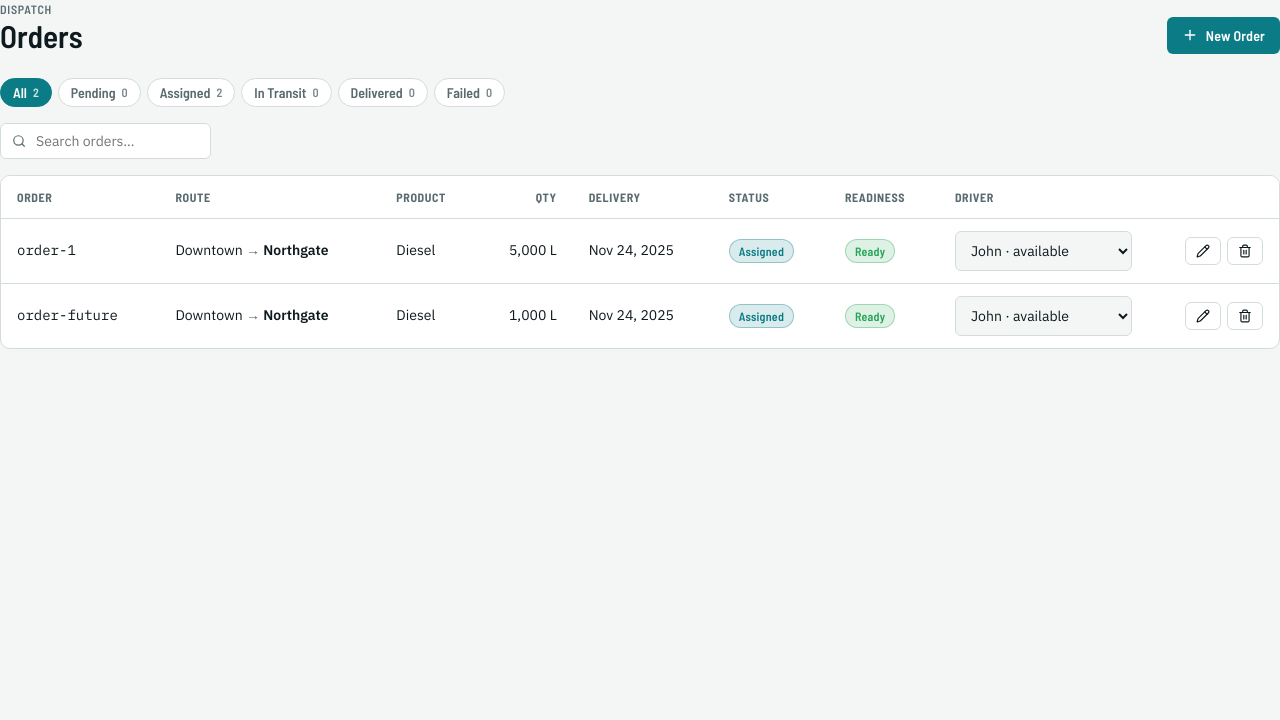
Test: OrdersPage › edits an existing (future-dated) order from the drawer
Expected: the text "order-future" is shown, [17, 306, 118, 324]
Click the button named "Edit order-future": x=1203, y=316 [1185, 302, 1221, 330]
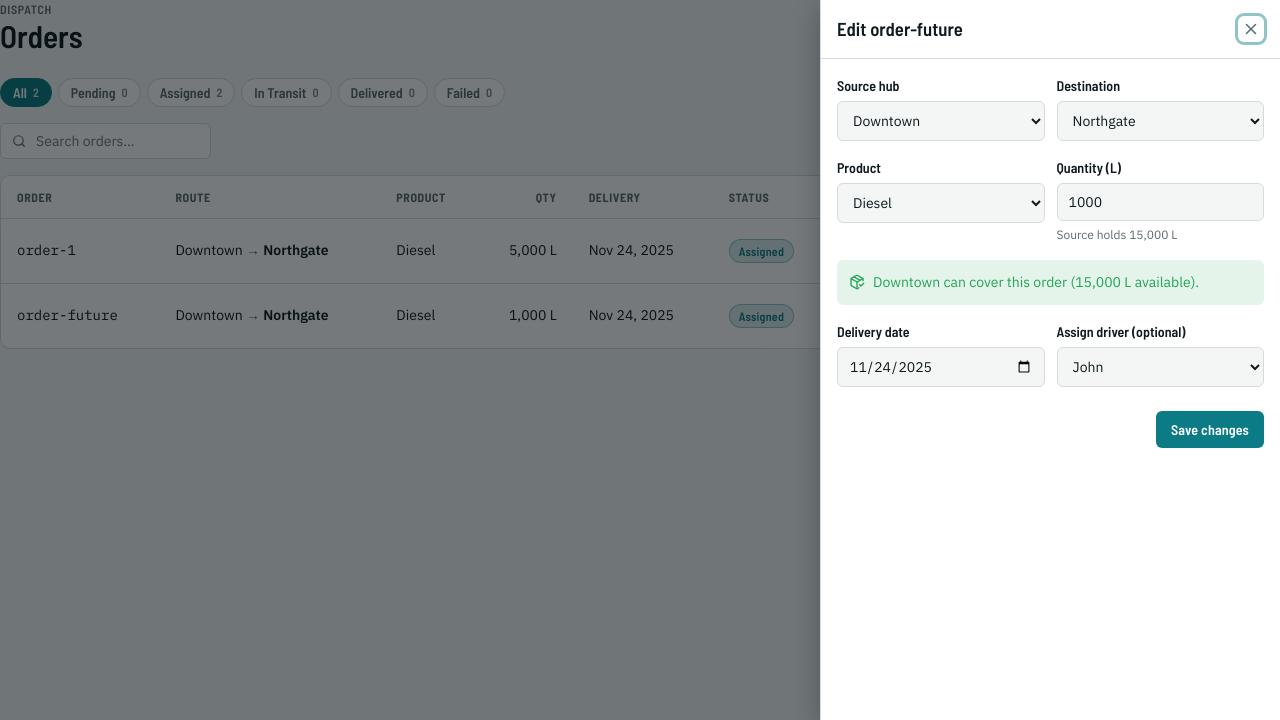
Replace the text in the number field labelled "Quantity (L) Source holds 15,000 L" with "1200": x=1160, y=202 [1056, 183, 1264, 221]
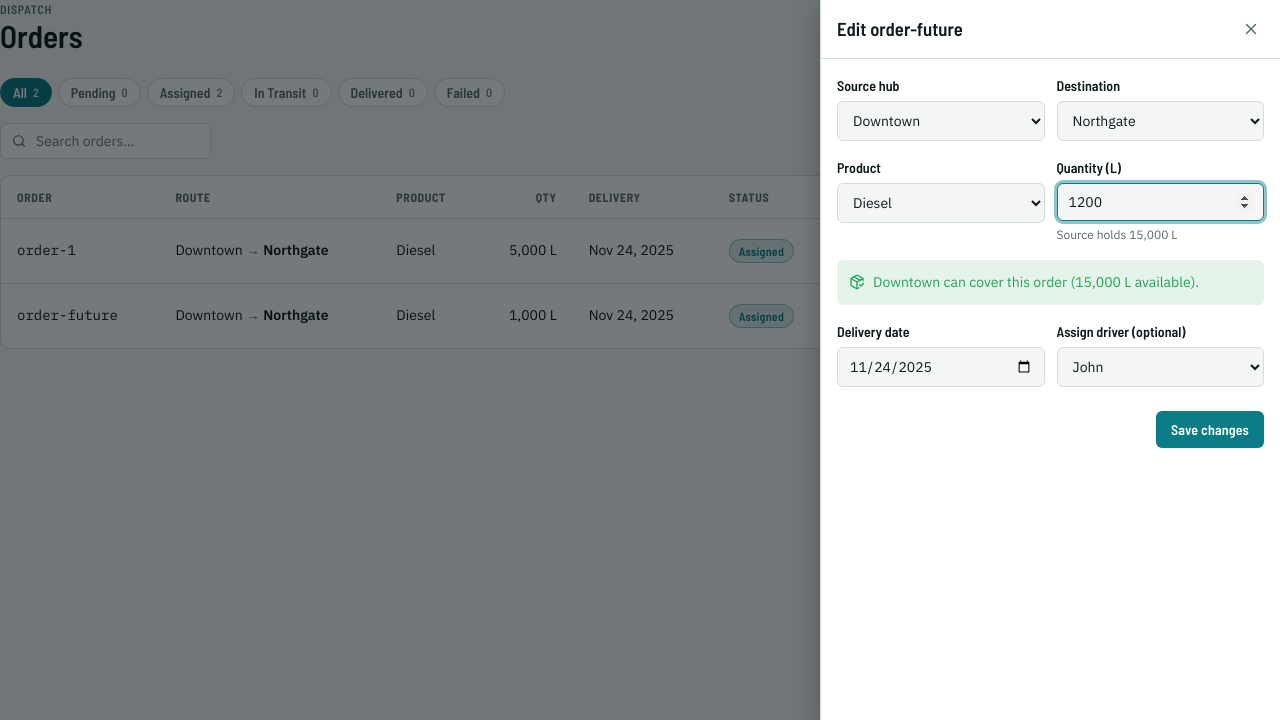
Click the button "Save changes": x=1210, y=430 [1156, 411, 1264, 448]
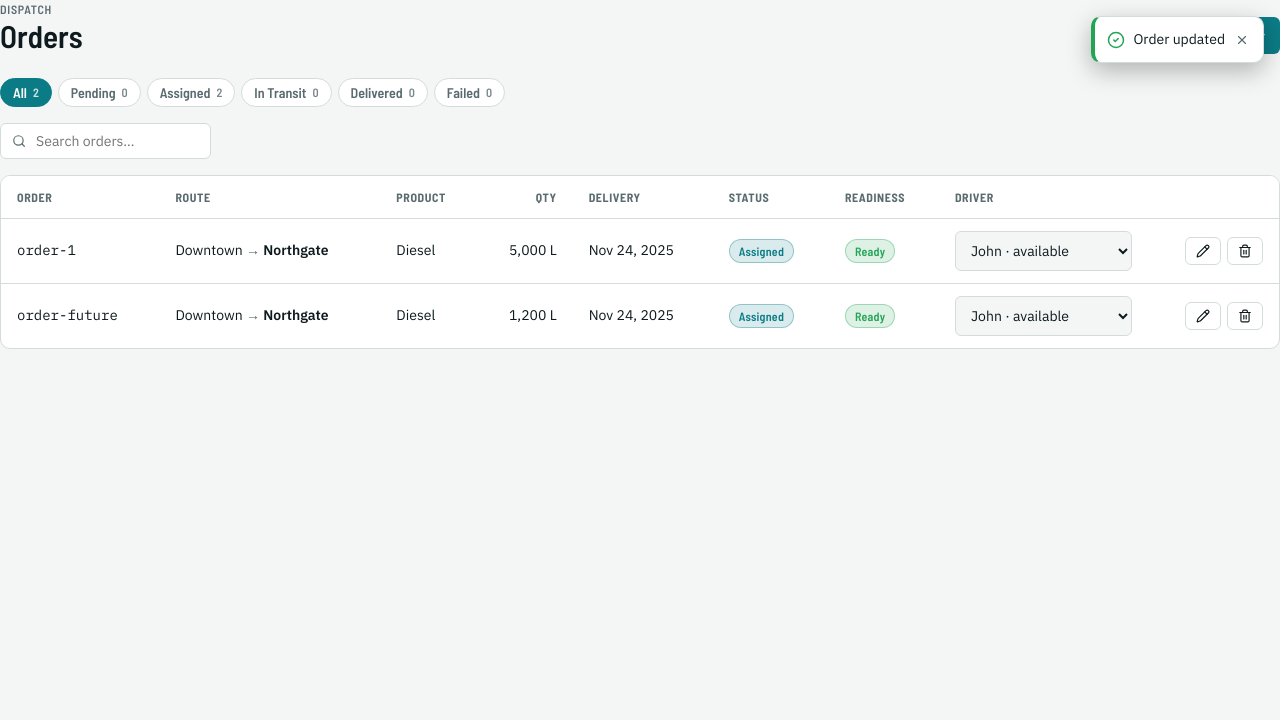
Expected: the heading "Edit order-future" is gone
